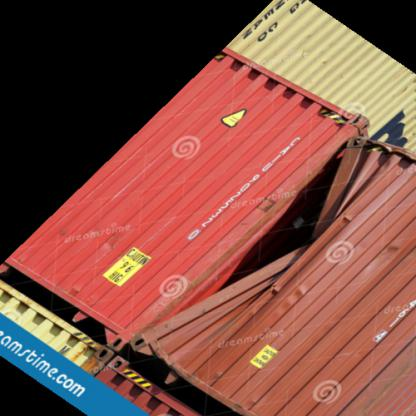Damage: (188, 149, 357, 317)
